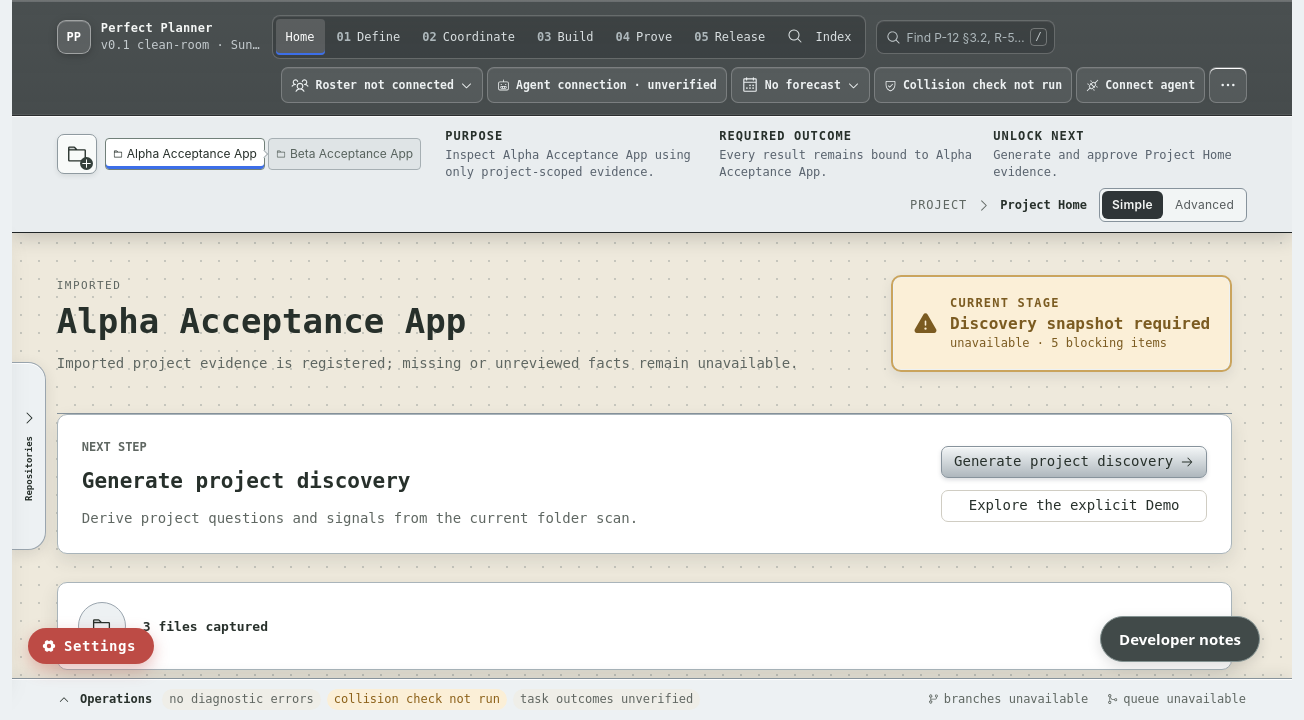
Test: PP-FOUNDATION-100 shell acceptance › switching two imported projects replaces all active identity and census facts
The image size is (1304, 720).
Expected: the heading "Alpha Acceptance App" is shown, [57,301,466,341]
Expected: the element with class "workspace-stage" shows "3 files captured", [143,619,268,634]
Click the button "Beta Acceptance App" at (345, 154), box [268,138,421,170]
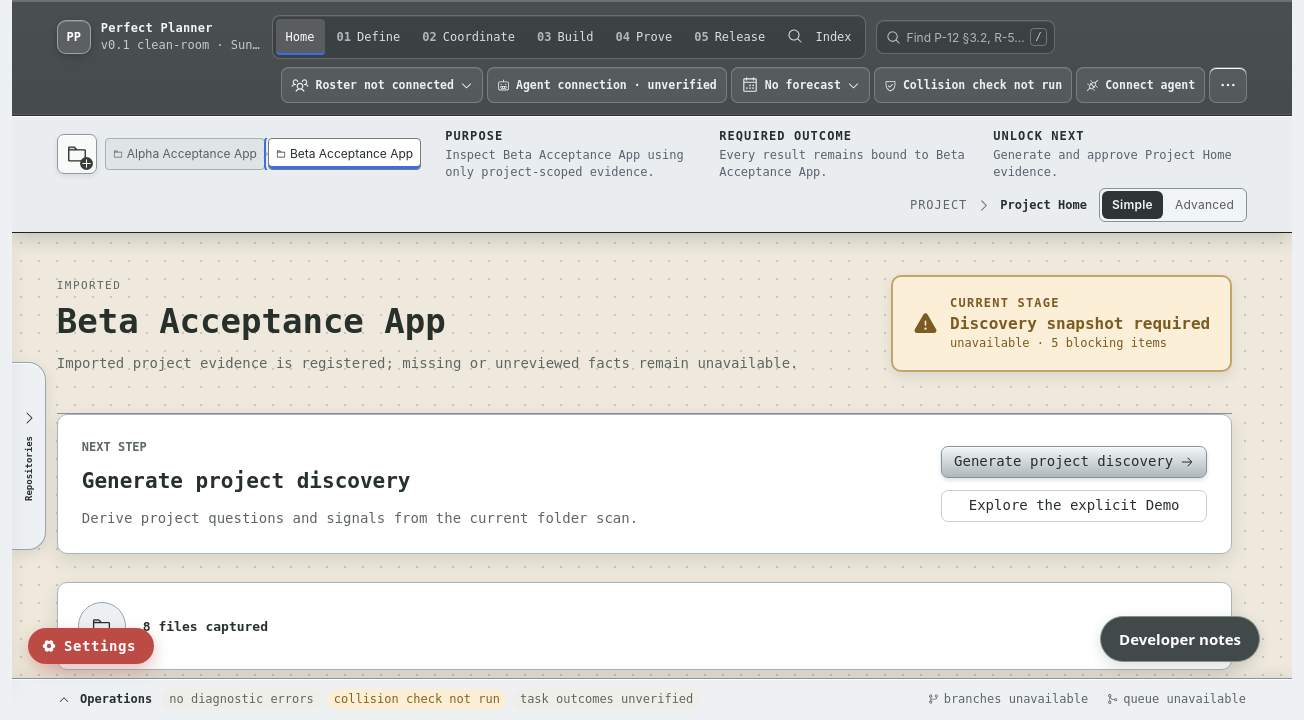
Expected: the heading "Beta Acceptance App" is shown, [57,301,446,341]
Click the button "Alpha Acceptance App" at (185, 154), box [105,138,265,170]
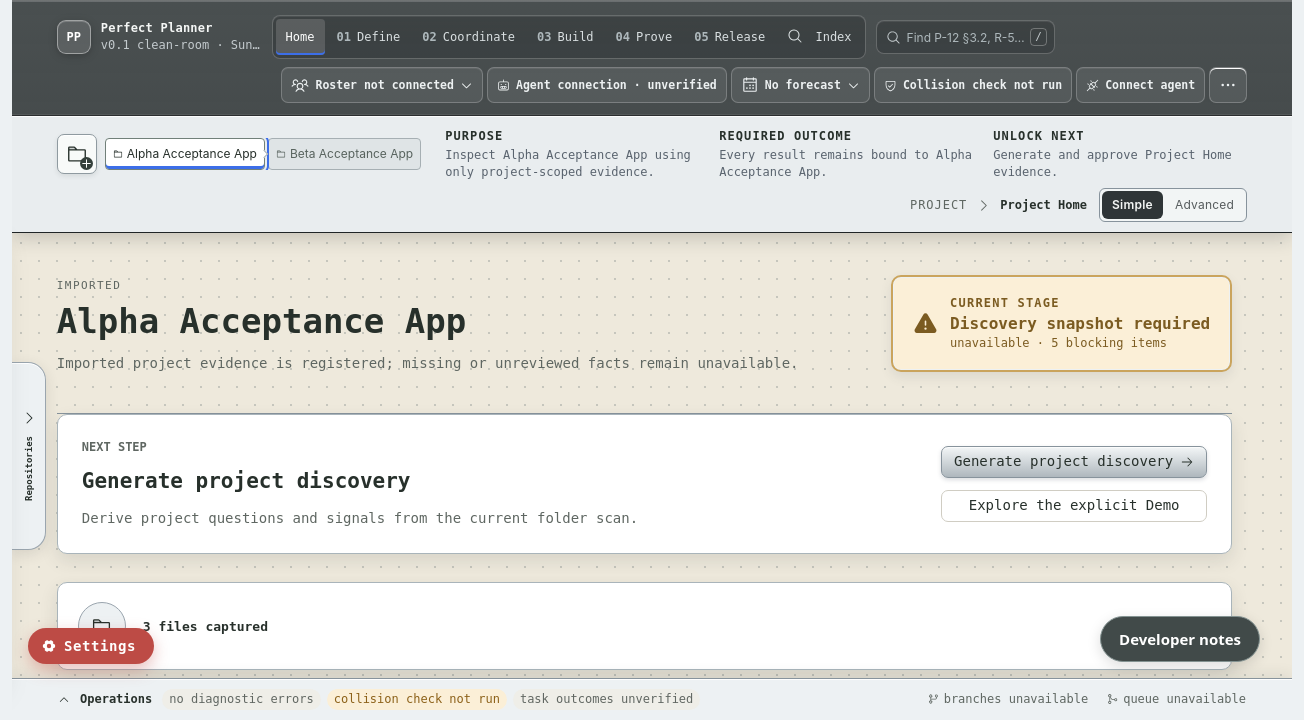
Expected: the heading "Alpha Acceptance App" is shown, [57,301,466,341]
